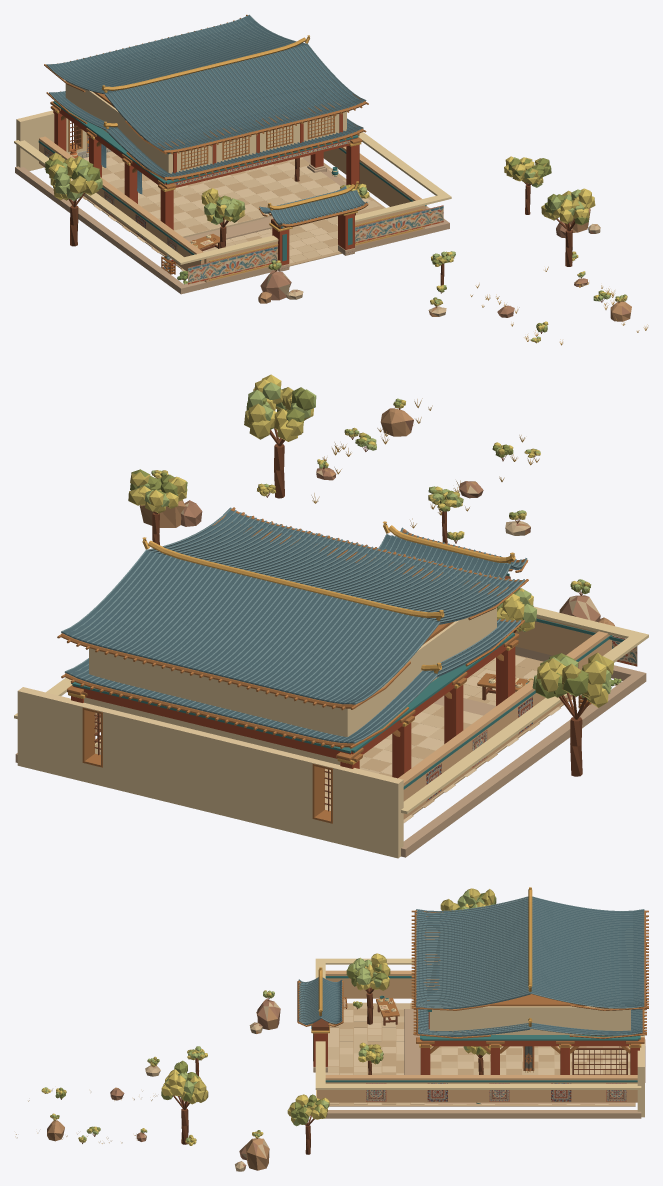
File: courtyard.glb
The picture shows the model from 3 angles, top to bottom: view 1: azimuth 30°, elevation 25°; view 2: azimuth 150°, elevation 25°; view 3: azimuth 270°, elevation 25°; orthographic projection. The views are drawn at different scales.
Parts seen in each view (by area): view 1: hall-v003-upper-roof, hall-v003-paving-c, courtyard-paving, hall-v003-paving-b, hall-v003-upper-wall-front, hall-v003-paving-a, entrance-roof, courtyard-side-wall, tree-court-outer-west-canopy, courtyard-v005-side-plinth-west, hall-v003-upper-wall-left, courtyard-side-wall-001 (+24 smaller); view 2: hall-v003-upper-roof, courtyard-square-rear-pier-1, hall-v003-upper-wall-rear, courtyard-square-rear-pier-0, courtyard-square-rear-pier-2, courtyard-side-wall, courtyard-v005-side-plinth-west, hall-v003-upper-wall-left, hall-v003-lower-eave-rear, tree-road-east-canopy, hall-v003-lower-eave-left, entrance-roof (+22 smaller); view 3: hall-v003-upper-roof, courtyard-side-wall-001, courtyard-paving, hall-v003-upper-wall-right, courtyard-v005-side-plinth-east, courtyard-v005-side-coping-east, entrance-roof, hall-v003-lower-eave-right, hall-v003-paving-c, hall-v003-paving-a, hall-v003-paving-b, courtyard-ground (+18 smaller).
Part boxes in pixels (box(x1,y1,x2,y2)): hall-v003-upper-roof: box(44, 14, 368, 154); hall-v003-paving-c: box(83, 157, 340, 236); courtyard-paving: box(82, 158, 381, 271); hall-v003-paving-b: box(102, 154, 335, 232); hall-v003-upper-wall-front: box(170, 112, 345, 173); hall-v003-paving-a: box(102, 151, 332, 229); entrance-roof: box(259, 181, 368, 227); courtyard-side-wall: box(39, 136, 204, 281); tree-court-outer-west-canopy: box(45, 152, 102, 200); courtyard-v005-side-plinth-west: box(15, 166, 183, 293); hall-v003-upper-wall-left: box(65, 81, 170, 172); courtyard-side-wall-001: box(323, 146, 426, 227); hall-v003-upper-roof: box(57, 507, 528, 710); courtyard-square-rear-pier-1: box(101, 708, 318, 837); hall-v003-upper-wall-rear: box(91, 649, 345, 736); courtyard-square-rear-pier-0: box(331, 764, 403, 858); courtyard-square-rear-pier-2: box(17, 687, 88, 781); courtyard-side-wall: box(398, 631, 611, 819); courtyard-v005-side-plinth-west: box(401, 673, 646, 857); hall-v003-upper-wall-left: box(342, 606, 496, 736); hall-v003-lower-eave-rear: box(80, 675, 344, 747); tree-road-east-canopy: box(244, 374, 316, 441); hall-v003-lower-eave-left: box(335, 619, 524, 748); entrance-roof: box(378, 521, 528, 578); hall-v003-upper-roof: box(411, 887, 648, 1010); courtyard-side-wall-001: box(320, 1075, 637, 1102); courtyard-paving: box(325, 1002, 608, 1104); hall-v003-upper-wall-right: box(429, 1006, 630, 1034); courtyard-v005-side-plinth-east: box(325, 1110, 641, 1118); courtyard-v005-side-coping-east: box(315, 1083, 641, 1089); entrance-roof: box(297, 967, 343, 1026); hall-v003-lower-eave-right: box(413, 1018, 646, 1038); hall-v003-paving-c: box(430, 1046, 630, 1074); hall-v003-paving-a: box(430, 1046, 630, 1074); hall-v003-paving-b: box(430, 1046, 630, 1074); courtyard-ground: box(328, 1003, 635, 1106).
Size of the model in its own units: 39.52 by 10.63 by 51.48.
56 materials, 27 textured.
